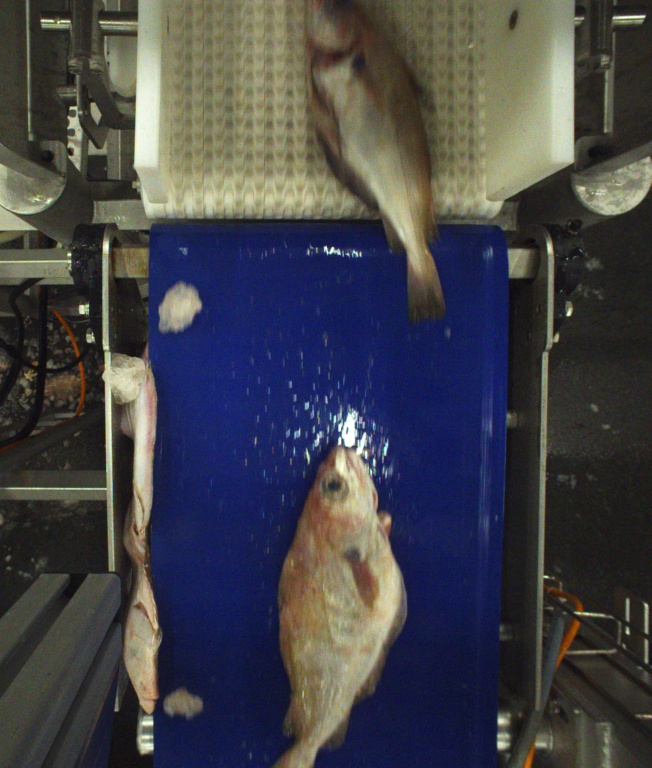BIB: (299, 0, 448, 326)
